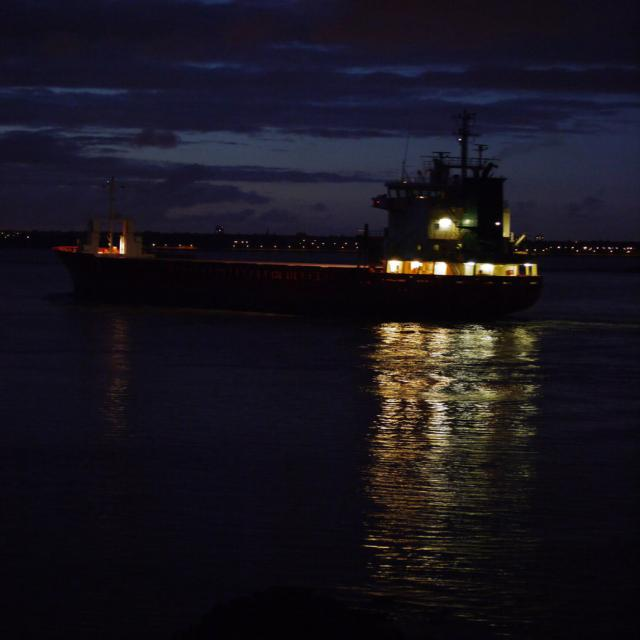Boat: (26, 127, 583, 336)
